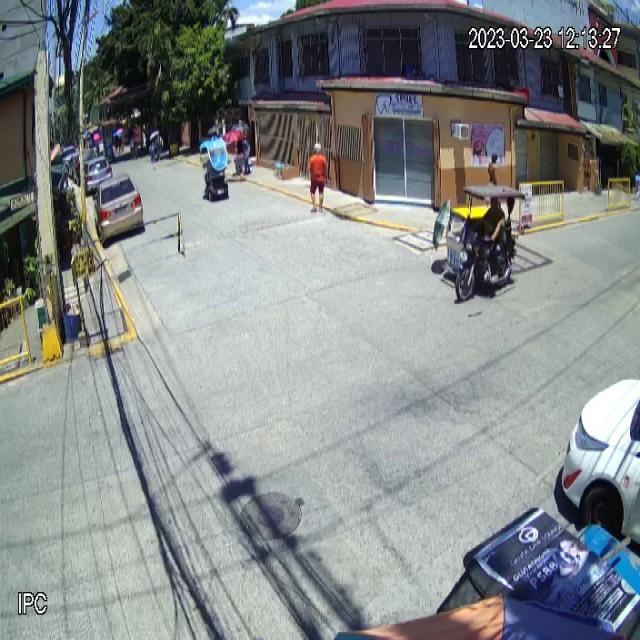Car: (92, 174, 144, 243)
Tricycle: (445, 185, 526, 303)
